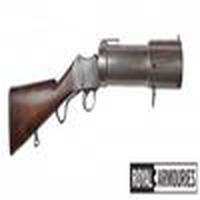gun: (8, 41, 185, 149)
